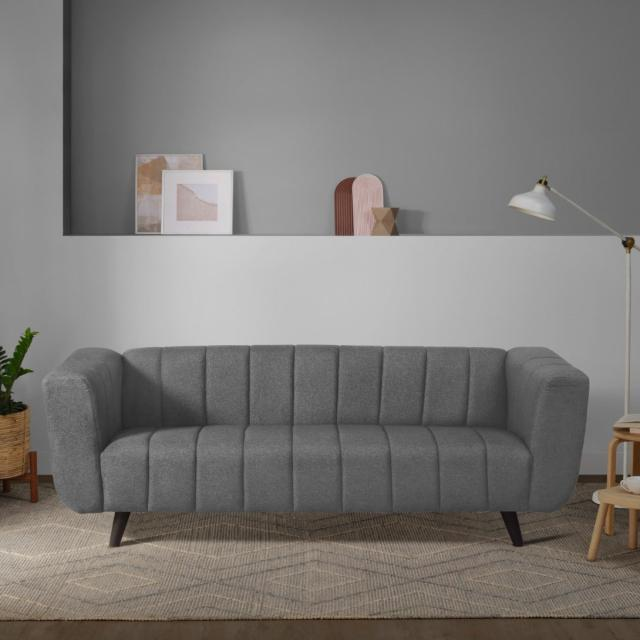sofa: (41, 342, 590, 548)
